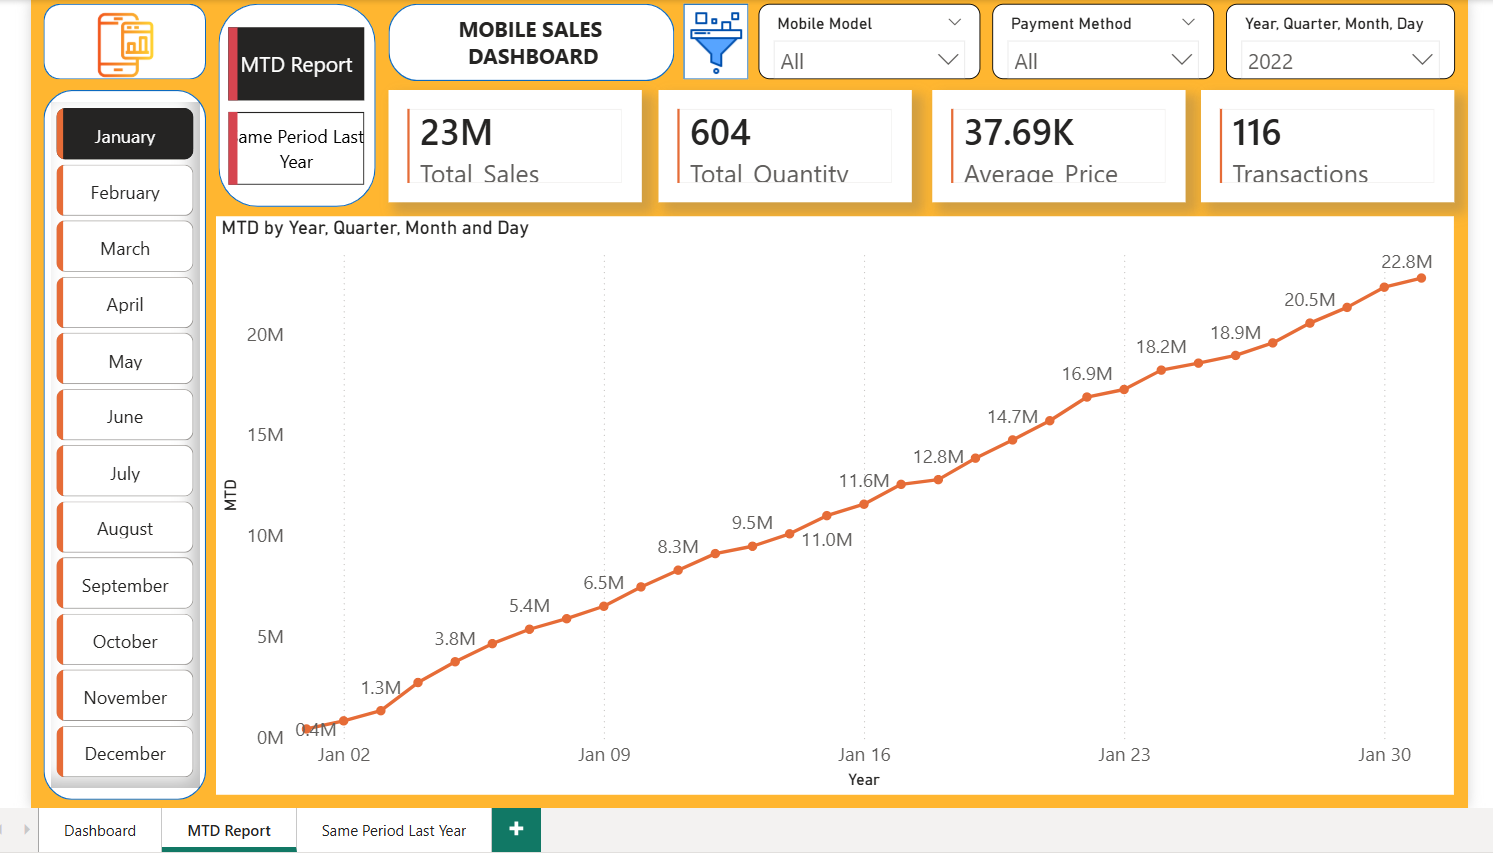

This screenshot's page, from the dashboard's own definition file:
{"tool":"powerbi","page":{"name":"MTD Report","canvas":[1280,720],"ordinal":1},"visuals":[{"type":"shape","box":[10.9,3.6,144.8,67.6],"z":0},{"type":"image","box":[37.4,8.4,92.9,62.7],"z":1000},{"type":"slicer","fields":{"Values":["Sales_Data.Mobile Model"]},"box":[647.9,3.6,197.9,67.6],"z":2000},{"type":"slicer","fields":{"Values":["Sales_Data.Payment Method"]},"box":[856.6,3.6,197.9,67.6],"z":3000},{"type":"slicer","fields":{"Values":["Custom_Calender.Date.Variation.Date Hierarchy.Year","Custom_Calender.Date.Variation.Date Hierarchy.Quarter","Custom_Calender.Date.Variation.Date Hierarchy.Month","Custom_Calender.Date.Variation.Date Hierarchy.Day"]},"box":[1064.1,3.6,203.9,67.6],"z":4000},{"type":"cardVisual","fields":{"Data":["Sales_Data.Total_Sales"]},"box":[318.5,79.6,225.6,100.1],"z":5000},{"type":"cardVisual","fields":{"Data":["Sales_Data.Total_Quantity"]},"box":[558.6,79.6,225.6,100.1],"z":6000},{"type":"cardVisual","fields":{"Data":["Sales_Data.Average_Price"]},"box":[802.3,79.6,225.6,100.1],"z":7000},{"type":"cardVisual","fields":{"Data":["Sales_Data.Transactions"]},"box":[1042.4,79.6,225.6,100.1],"z":8000},{"type":"shape","box":[581.5,3.6,57.9,67.6],"z":9000},{"type":"image","box":[581.5,9.7,57.9,56.7],"z":10000},{"type":"shape","box":[318.5,3.6,254.6,68.8],"z":11000},{"type":"textbox","box":[357.1,7.2,179.8,60.3],"z":12000},{"type":"lineChart","fields":{"Category":["Custom_Calender.Date.Variation.Date Hierarchy.Year","Custom_Calender.Date.Variation.Date Hierarchy.Quarter","Custom_Calender.Date.Variation.Date Hierarchy.Month","Custom_Calender.Date.Variation.Date Hierarchy.Day"],"Y":["Sales_Data.MTD"]},"box":[165.3,193,1102.7,515.2],"z":13000},{"type":"shape","box":[10.9,79.6,144.8,632.2],"z":14000},{"type":"advancedSlicerVisual","fields":{"Values":["Custom_Calender.Date.Variation.Date Hierarchy.Month"]},"box":[18.1,91.7,132.7,610.5],"z":15000},{"type":"shape","box":[166.5,3.6,139.9,181],"z":16000},{"type":"pageNavigator","box":[175.9,24.5,121.3,140.3],"z":16001}]}

Visuals, with their boxes on the page's 1280x720 design canvas (x1, y1, x2, y2). These are canvas units, not pixel positions in the 1493x853 screenshot, which may show the page scaled, cropped or inside an application window:
shape: <bbox>11, 4, 156, 71</bbox>
image: <bbox>37, 8, 130, 71</bbox>
slicer - Sales_Data.Mobile Model: <bbox>648, 4, 846, 71</bbox>
slicer - Sales_Data.Payment Method: <bbox>857, 4, 1054, 71</bbox>
slicer - Custom_Calender.Date.Variation.Date Hierarchy.Year x Custom_Calender.Date.Variation.Date Hierarchy.Quarter: <bbox>1064, 4, 1268, 71</bbox>
cardVisual - Sales_Data.Total_Sales: <bbox>318, 80, 544, 180</bbox>
cardVisual - Sales_Data.Total_Quantity: <bbox>559, 80, 784, 180</bbox>
cardVisual - Sales_Data.Average_Price: <bbox>802, 80, 1028, 180</bbox>
cardVisual - Sales_Data.Transactions: <bbox>1042, 80, 1268, 180</bbox>
shape: <bbox>582, 4, 639, 71</bbox>
image: <bbox>582, 10, 639, 66</bbox>
shape: <bbox>318, 4, 573, 72</bbox>
textbox: <bbox>357, 7, 537, 68</bbox>
lineChart - Custom_Calender.Date.Variation.Date Hierarchy.Year x Custom_Calender.Date.Variation.Date Hierarchy.Quarter: <bbox>165, 193, 1268, 708</bbox>
shape: <bbox>11, 80, 156, 712</bbox>
advancedSlicerVisual - Custom_Calender.Date.Variation.Date Hierarchy.Month: <bbox>18, 92, 151, 702</bbox>
shape: <bbox>166, 4, 306, 185</bbox>
pageNavigator: <bbox>176, 24, 297, 165</bbox>
